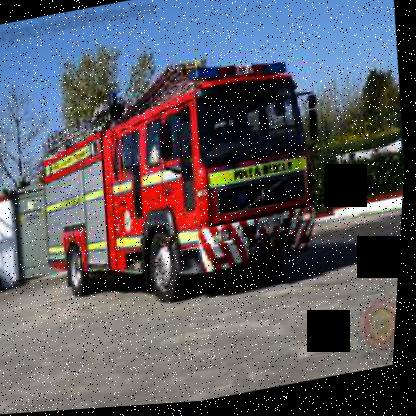emergency: (23, 34, 358, 354)
